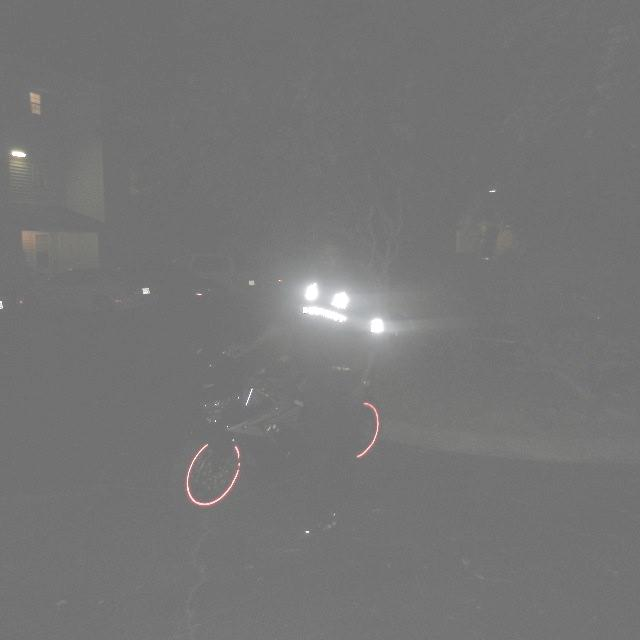Motorbike: (184, 289, 384, 505)
